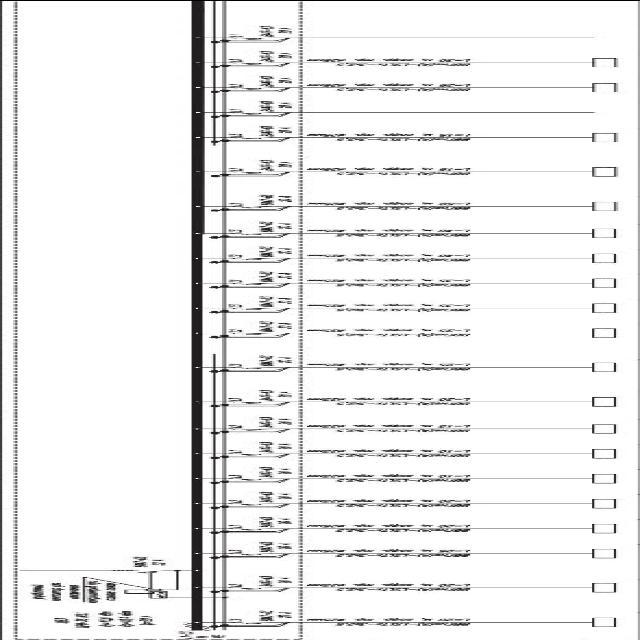-: (124, 555, 172, 568), (252, 608, 294, 622), (255, 24, 298, 36), (253, 440, 296, 452), (253, 466, 296, 478), (255, 320, 298, 332), (253, 515, 296, 527), (253, 124, 296, 136), (253, 49, 296, 61), (253, 388, 296, 400), (255, 540, 298, 552), (253, 244, 296, 256), (253, 490, 296, 502), (255, 220, 298, 232), (253, 415, 296, 427), (254, 295, 296, 307), (254, 99, 296, 111), (252, 158, 294, 170), (254, 193, 296, 205), (254, 354, 296, 366), (256, 269, 298, 281), (254, 574, 296, 586), (254, 75, 296, 86), (72, 610, 94, 628)
ITU: (142, 587, 166, 591)
QF: (110, 568, 169, 572), (230, 476, 274, 481), (228, 426, 272, 431), (228, 452, 272, 456), (228, 502, 272, 506), (228, 526, 272, 530), (228, 551, 272, 555), (226, 586, 270, 590), (225, 620, 269, 624), (228, 366, 272, 370), (228, 331, 272, 335), (228, 306, 272, 310), (228, 282, 272, 286), (230, 400, 274, 404), (228, 256, 272, 260), (228, 232, 272, 236), (228, 204, 272, 208), (228, 169, 272, 173), (228, 136, 272, 140), (230, 110, 274, 114), (230, 86, 274, 90), (230, 60, 274, 64), (230, 36, 274, 40)
